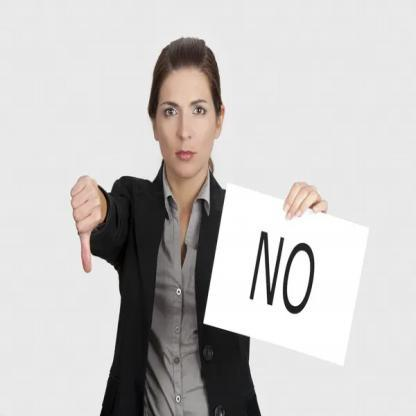thumb_down: (67, 170, 108, 274)
